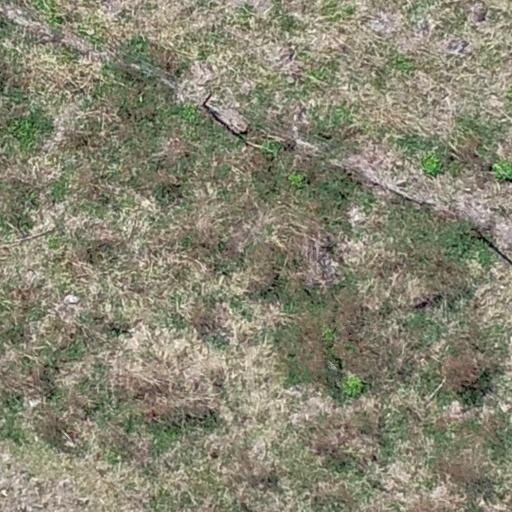stone: (64, 294, 84, 304)
